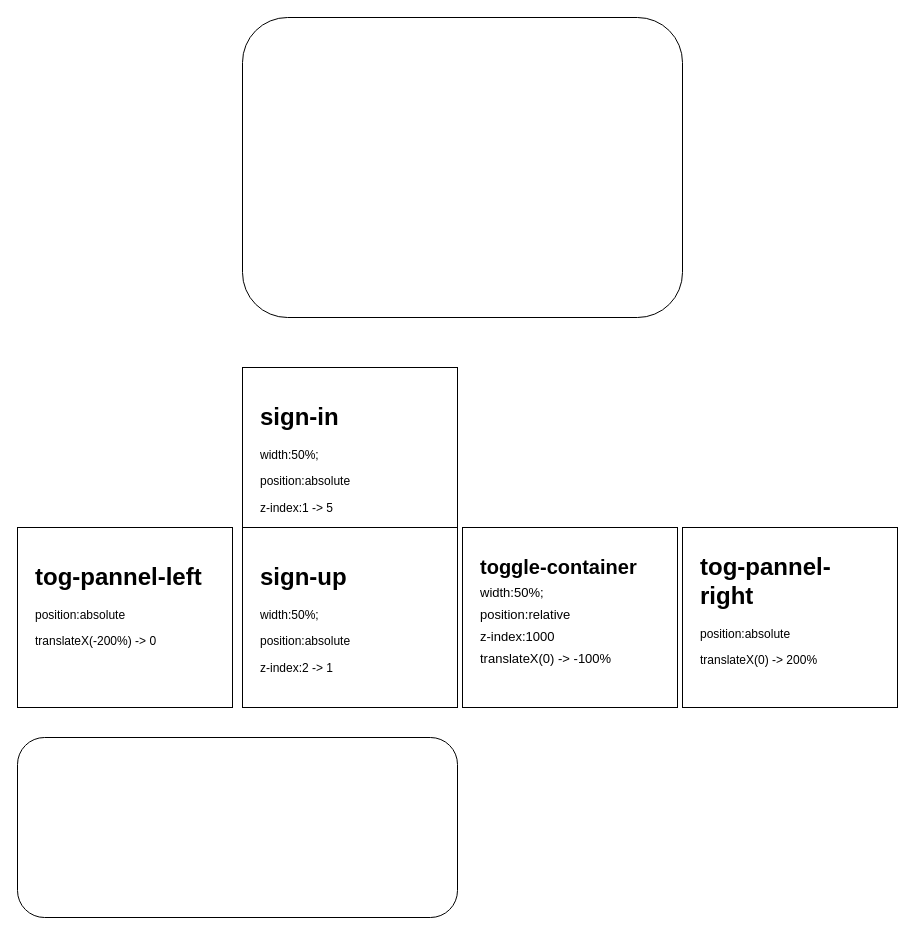
Image size: 915x935. Some labels were removed from this diagram. The shapes that lost their labels are listed below. From the top down, each one's box as (x1, y1, x2, y2) in pixels, then its label:
(242, 16, 682, 318): container position:relative; width:768px height:480px
(16, 736, 458, 918): toggle width:-200% left:-100% translateX(0) ->50%
